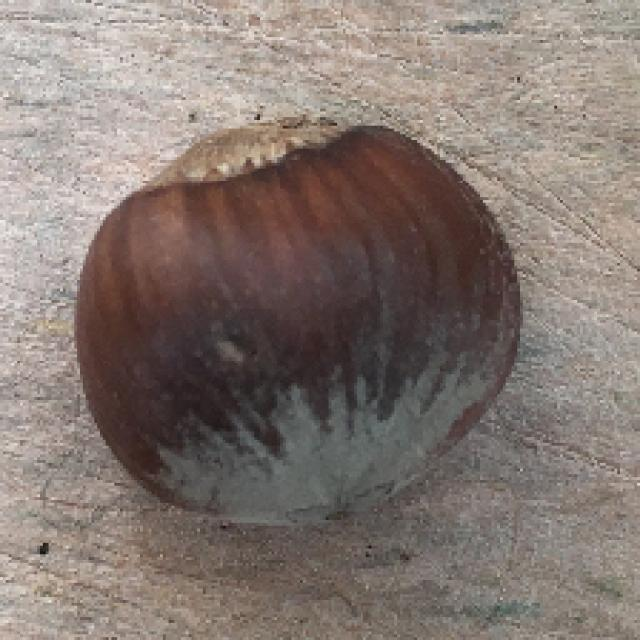damagedHazelnut: (62, 107, 530, 545)
